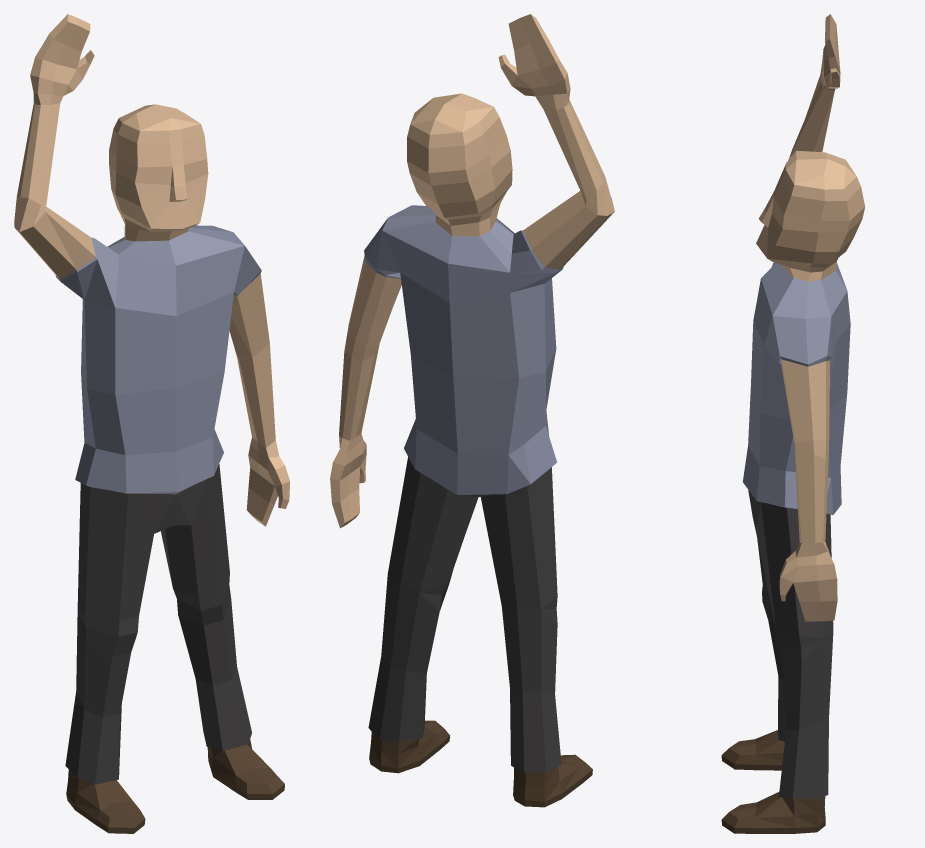
File: quaternius_cc0-male-character-1160.glb
3 views of the same model, side by side, from view 1: azimuth 30°, elevation 25°; view 2: azimuth 150°, elevation 25°; view 3: azimuth 270°, elevation 25° (orthographic). The views are drawn at different scales.
Visible parts, largest first — view 1: Male_Standing_Waving; view 2: Male_Standing_Waving; view 3: Male_Standing_Waving.
Boxes of the visible parts, x1,y1,x2,y2 form: Male_Standing_Waving: (14,14,289,833); Male_Standing_Waving: (330,14,614,807); Male_Standing_Waving: (721,14,865,833).
Bounding box in the file's own units: 1.57 × 4.5 × 1.46.
